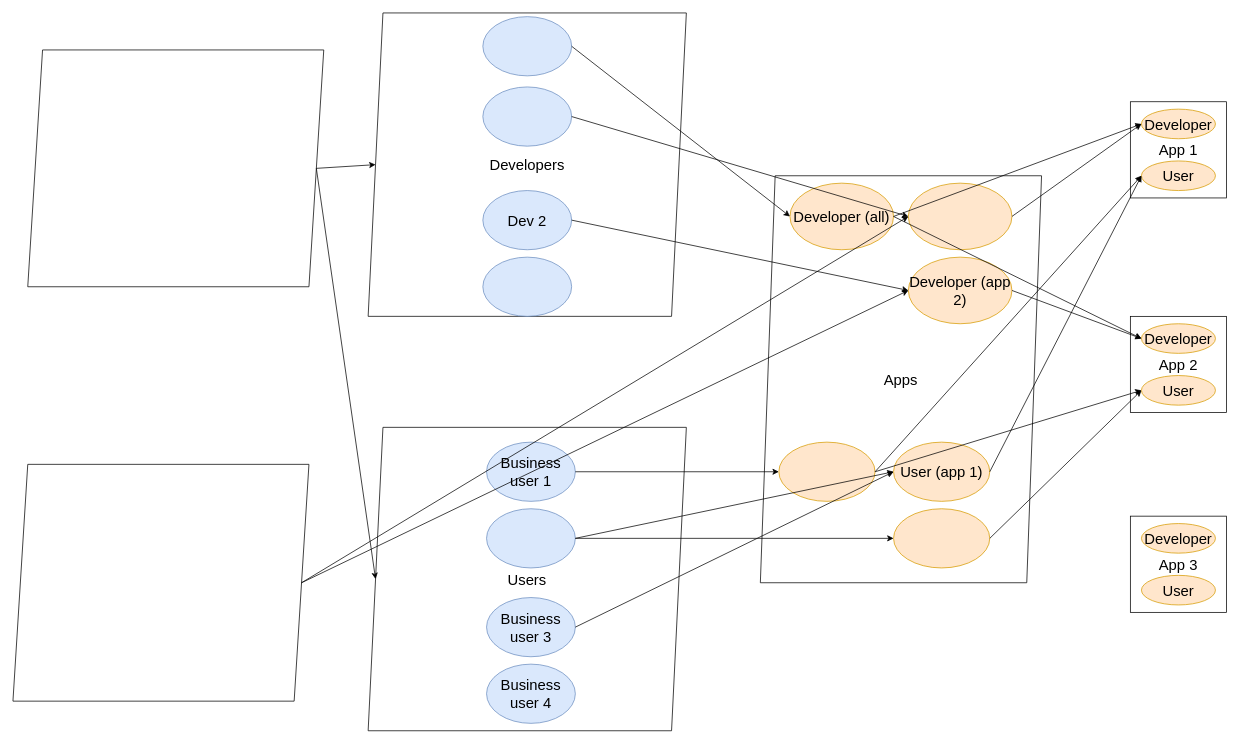
This 1240x744 diagram has some shape labels left out. The shapes that lost their labels are listed below. From the top down, each one's centre as x and y in pixels, then its label:
At point 527,46: "Cloud Dev".
At point 527,116: "Dev 1".
At point 175,168: "Role Management".
At point 960,216: "Developer (app 1)".
At point 527,286: "Dev 3".
At point 826,471: "User (all)".
At point 530,538: "Business user 2".
At point 941,538: "User (app 2)".
At point 160,582: "Technical operations".
